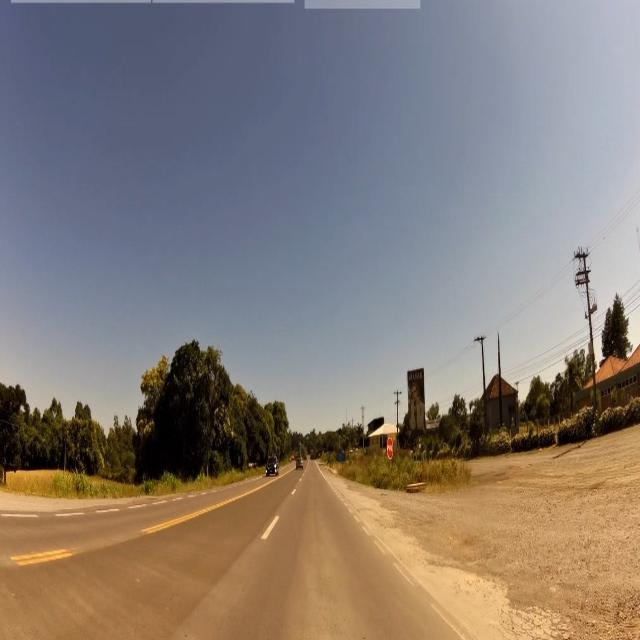R-1: (385, 434, 394, 463)
